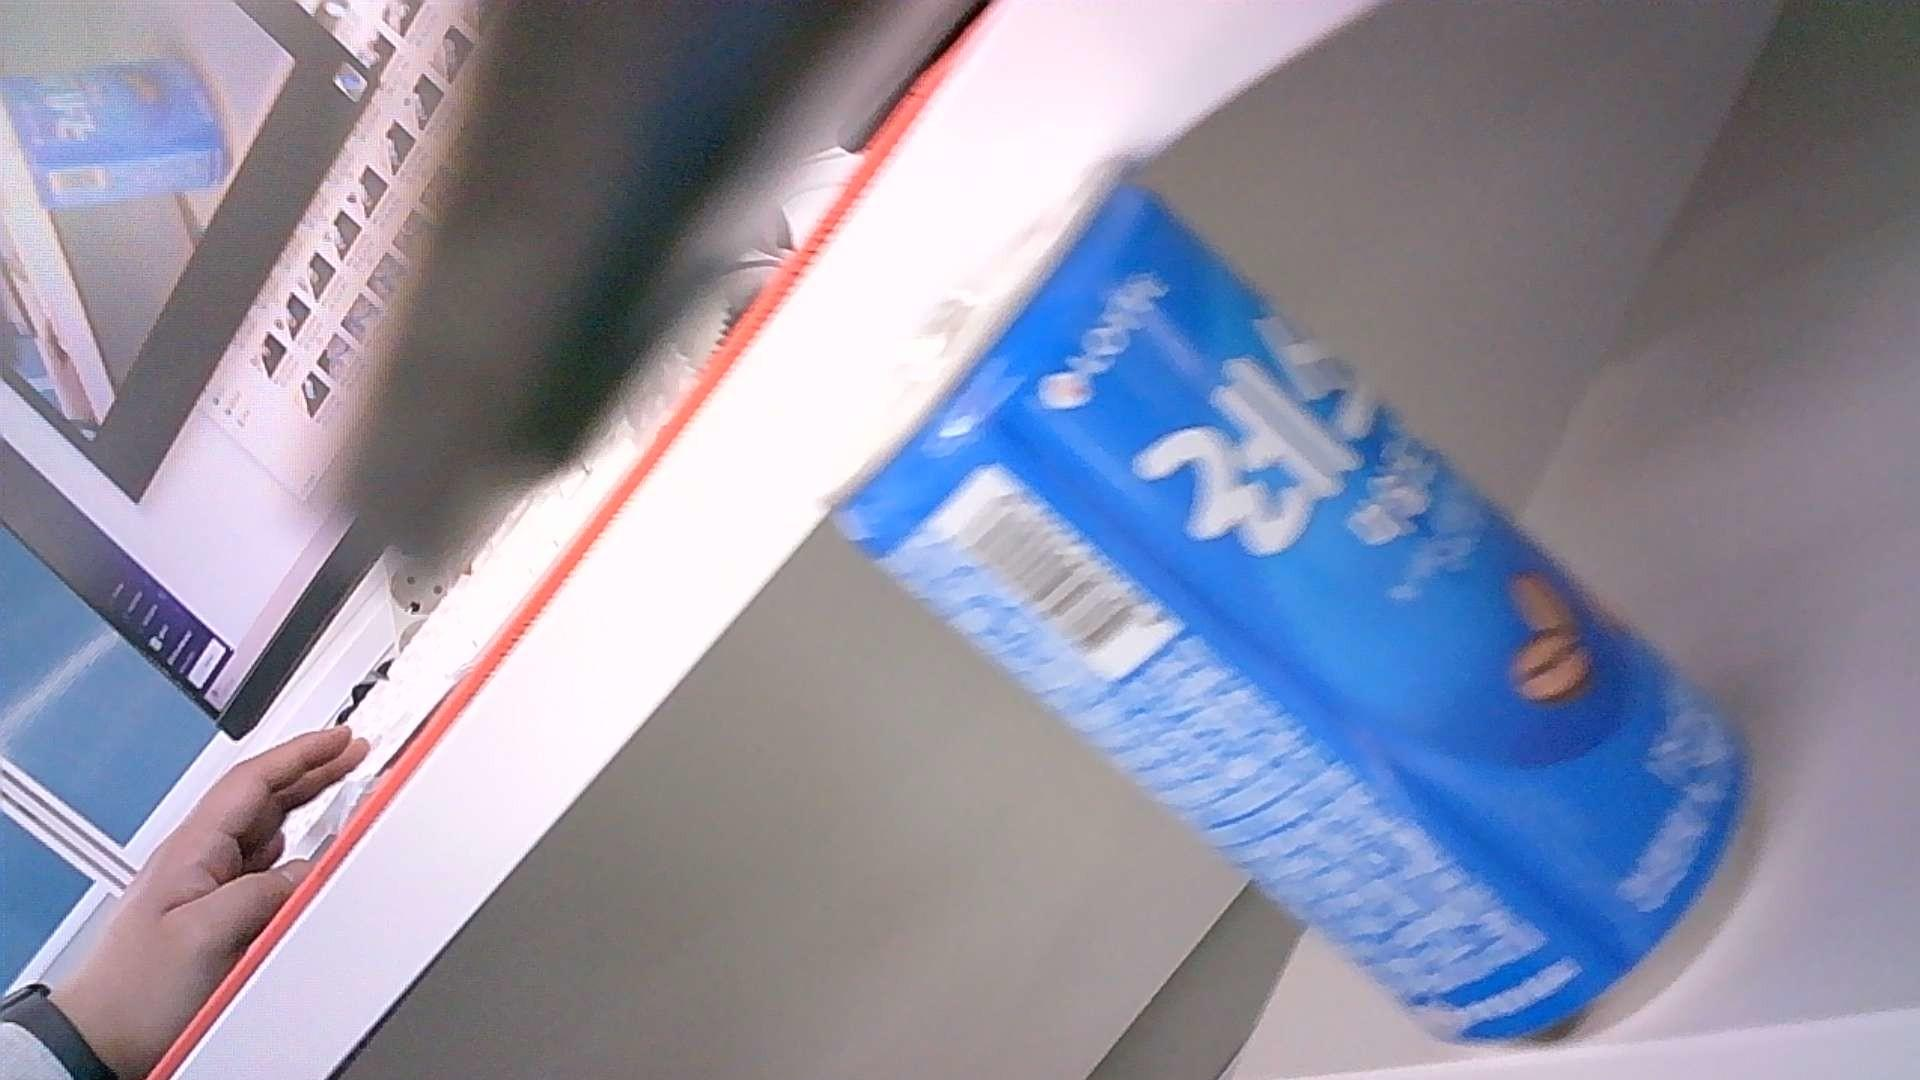letsbe: (811, 154, 1756, 1047)
